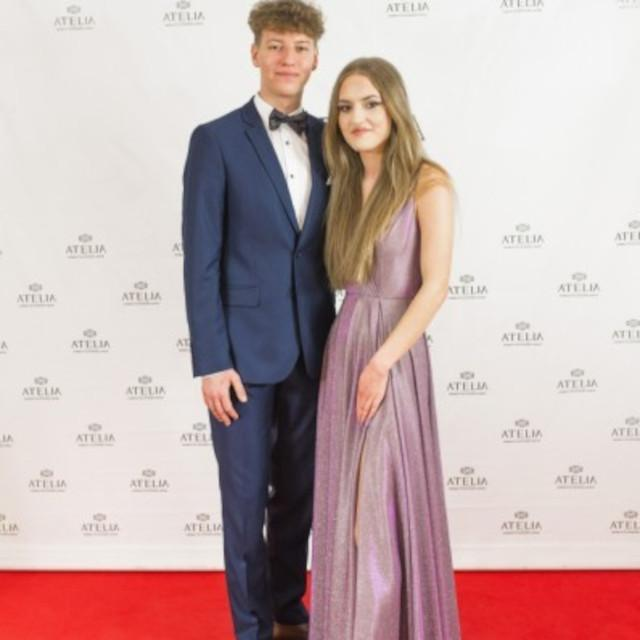kobieta: (312, 55, 459, 640)
mezczyzna: (184, 0, 328, 640)
